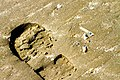human_foot_print: (10, 29, 71, 80)
